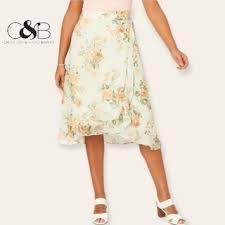skirt: (58, 12, 163, 150)
